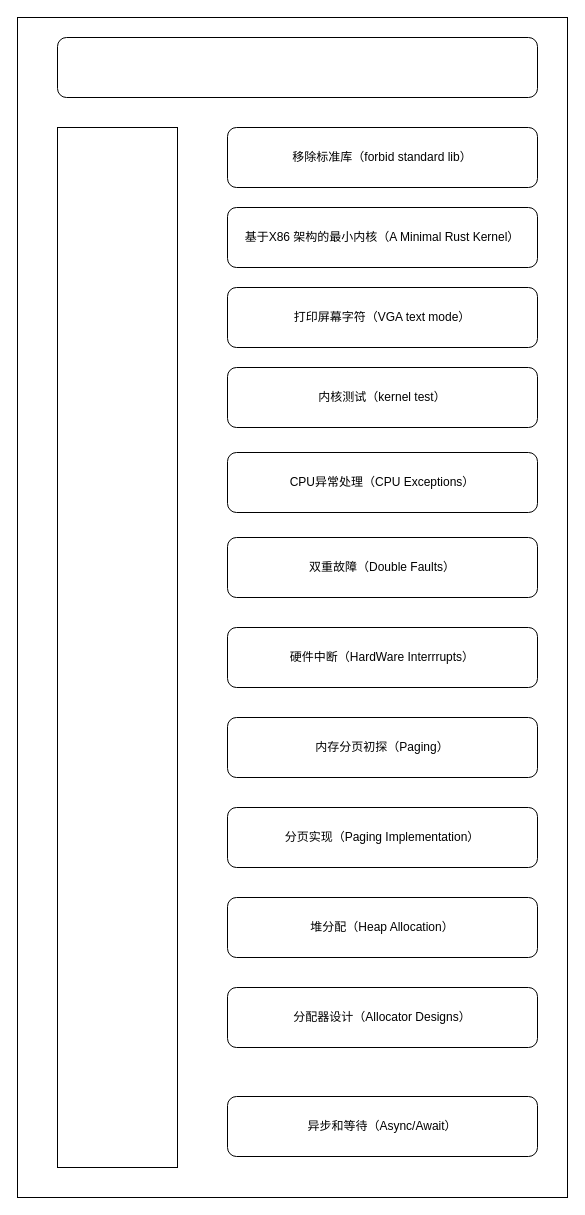
Some shapes in this 585 by 1215 pixel diagram are drawn without their labels. The centre of each missing label's shape, as x and y in pixels:
"Writing an OS in Rust" belongs at (x=297, y=67).
"内容结构（Content Architect）" belongs at (x=117, y=647).
